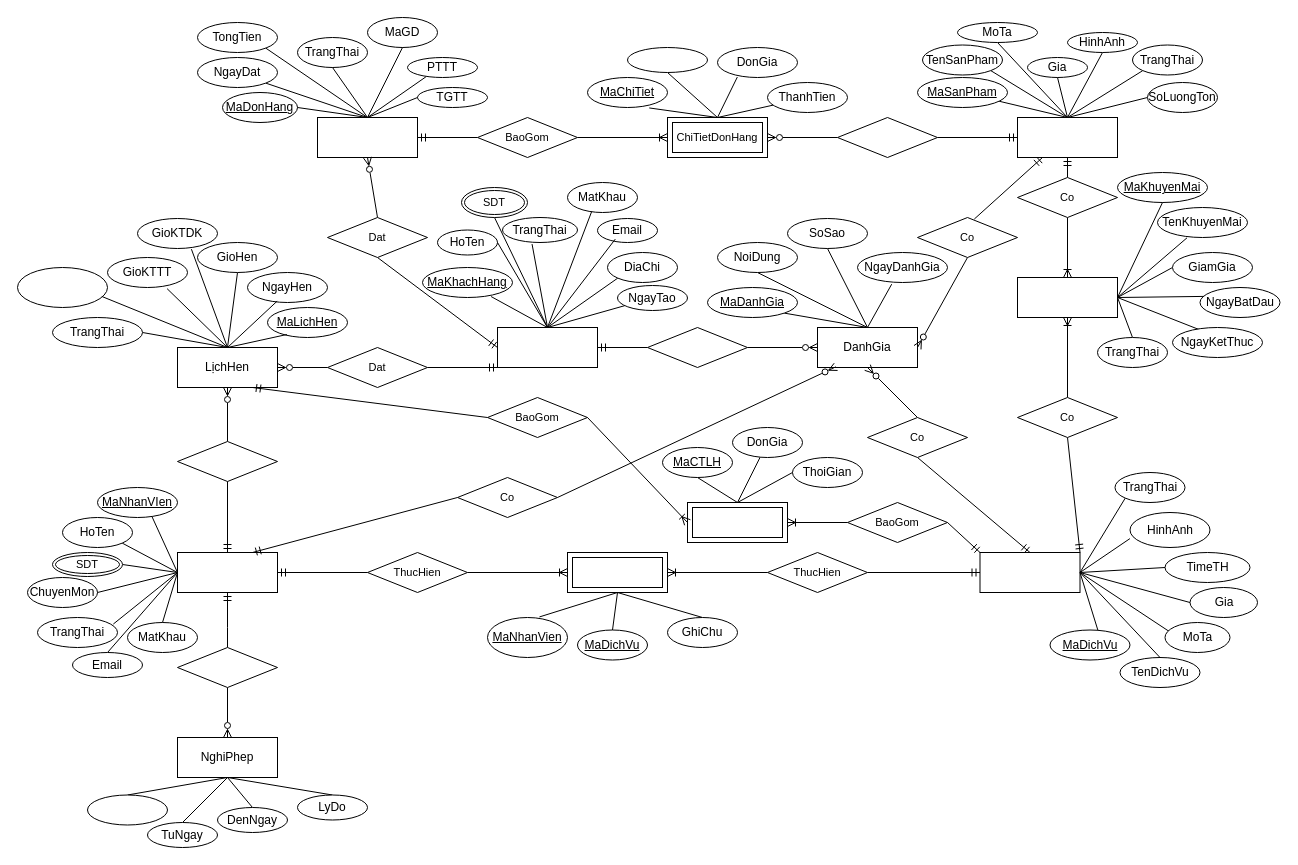
The diagram is 1298 pixels wide and 865 high, and some of its shapes have lost their labels. Each missing label, with the box of its shape:
ChiTietLichHen: (686, 502, 788, 542)
ChiTietNVDV: (566, 552, 668, 592)
DangKi: (176, 646, 278, 688)
DichVu: (979, 552, 1080, 592)
DonHang: (316, 116, 418, 158)
KhachHang: (496, 326, 598, 368)
KhuyenMai: (1016, 276, 1118, 318)
MaNghiPhep: (86, 794, 168, 825)
Nhan: (176, 440, 278, 482)
NhanVien: (176, 552, 278, 592)
SanPham: (1016, 116, 1118, 158)
SoLuong: (626, 46, 708, 72)
Tao: (646, 326, 748, 368)
ThoiGianBuffer: (16, 266, 108, 308)
Thuoc: (836, 116, 938, 158)
